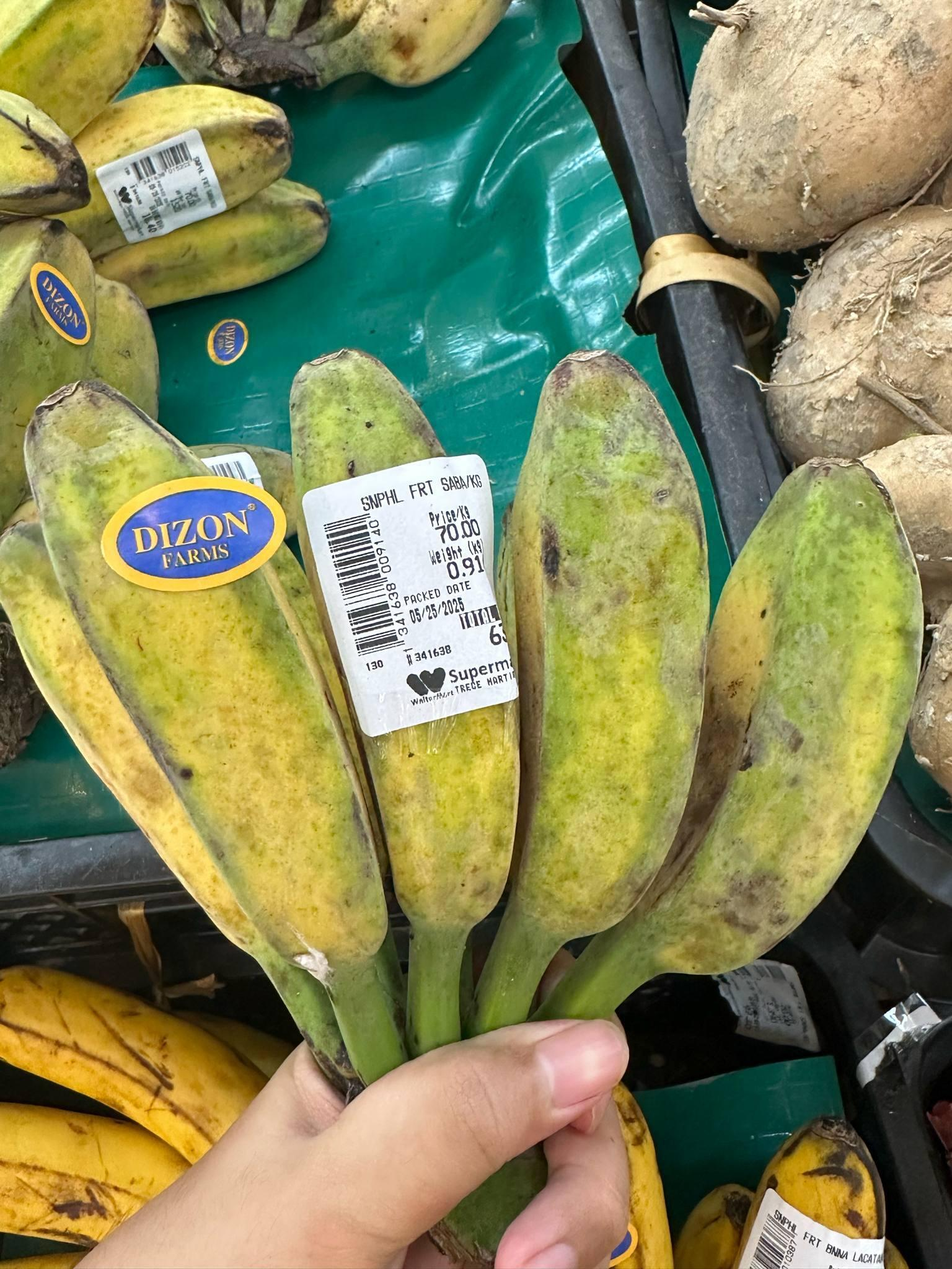underripe: (0, 349, 923, 974)
